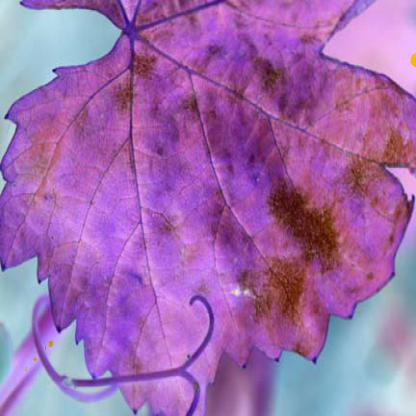squash powdery mildew leaf: (21, 3, 415, 400)
